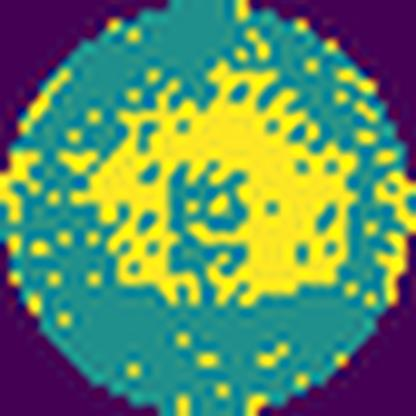Donut: (84, 63, 355, 309)
